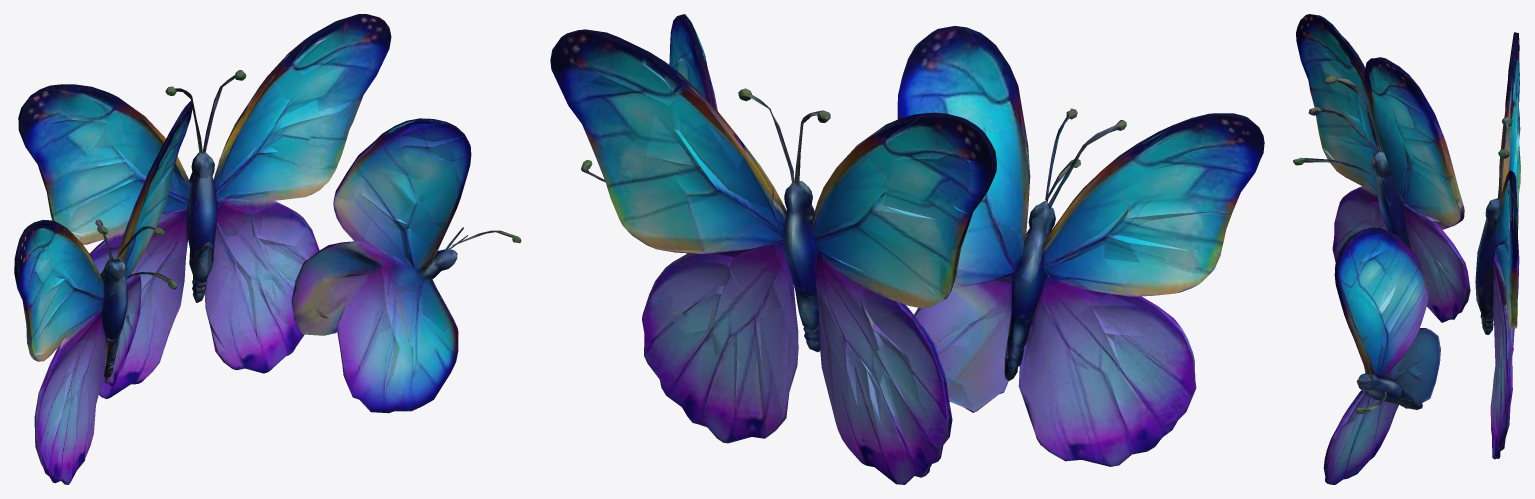
File: butterfly-dream.glb
3 views of the same model, side by side, from view 1: azimuth 30°, elevation 25°; view 2: azimuth 150°, elevation 25°; view 3: azimuth 270°, elevation 25° (orthographic). The views are drawn at different scales.
Visible parts, largest first — view 1: mesh_node; view 2: mesh_node; view 3: mesh_node.
Part boxes in pixels (x1,y1,x2,y2): mesh_node: (14,14,521,484); mesh_node: (550,14,1264,484); mesh_node: (1293,14,1520,484).
Size of the model in its own units: 1.9 by 1.16 by 0.7097.
Materials: 1 (1 with a texture image).
